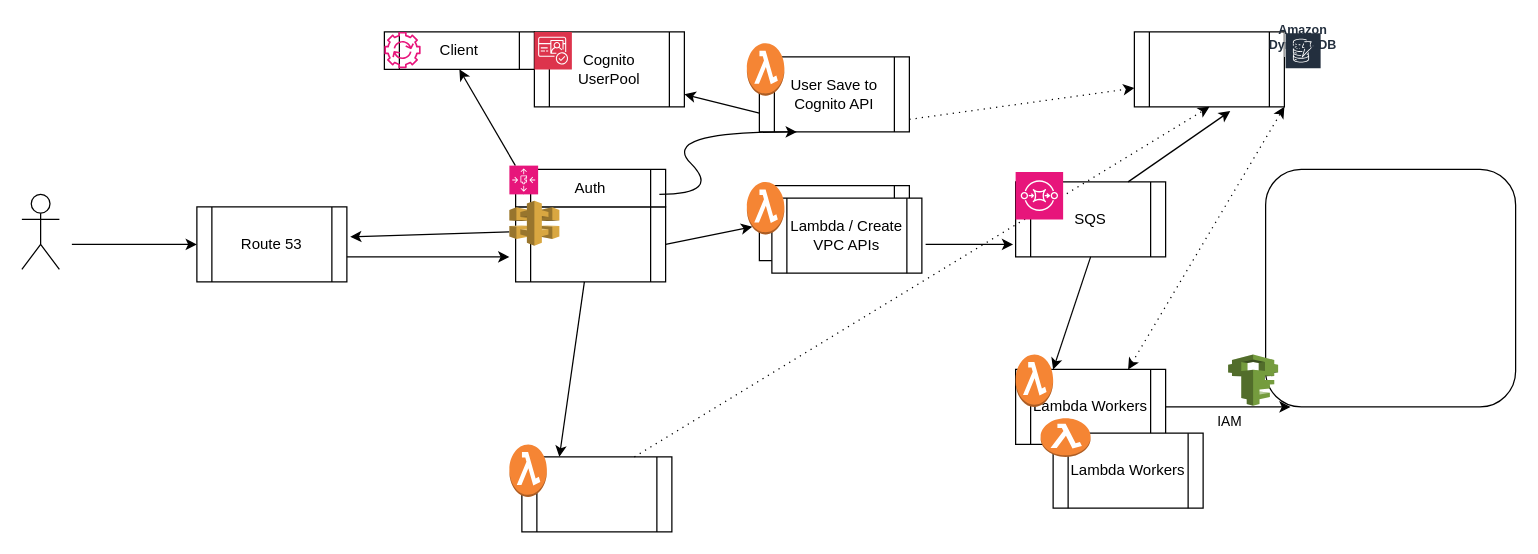
The diagram is 1538 pixels wide and 554 high, and some of its shapes have lost their labels. Here are the shapes that lost their labels. From the top down, the box of each, then its label:
(1133, 31, 1284, 107): Dynamo DB
(21, 193, 59, 269): Actor
(514, 206, 666, 282): API Gateway
(1264, 168, 1516, 407): VPC Creation
(521, 456, 672, 532): Lambda APIs (Status call, Get VPc Details, Get ALL VPC...)
